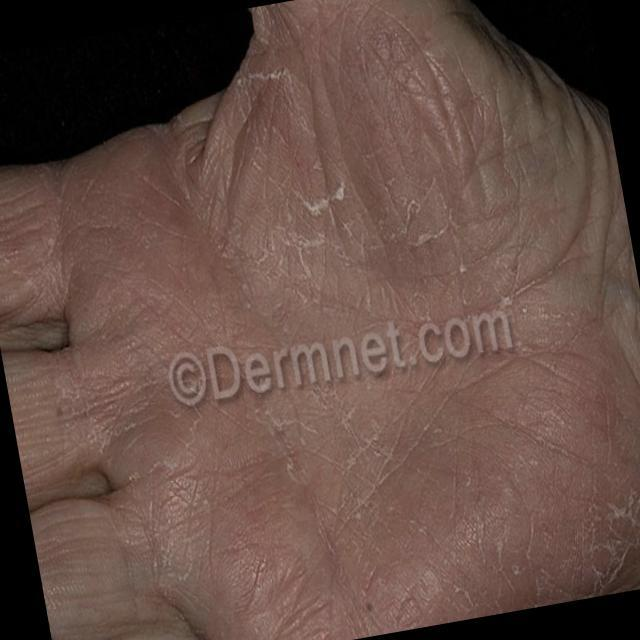Eczema: (92, 126, 640, 640)
